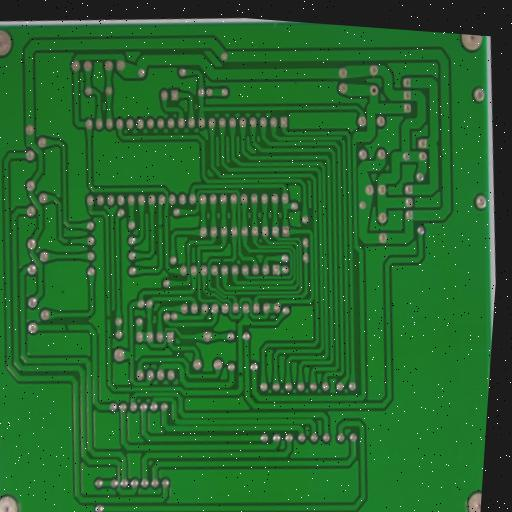open_circuit: (61, 322, 71, 333), (65, 236, 74, 246), (236, 368, 244, 379), (105, 312, 112, 323), (218, 256, 226, 265)
